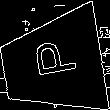P_W: (26, 42, 79, 87)
